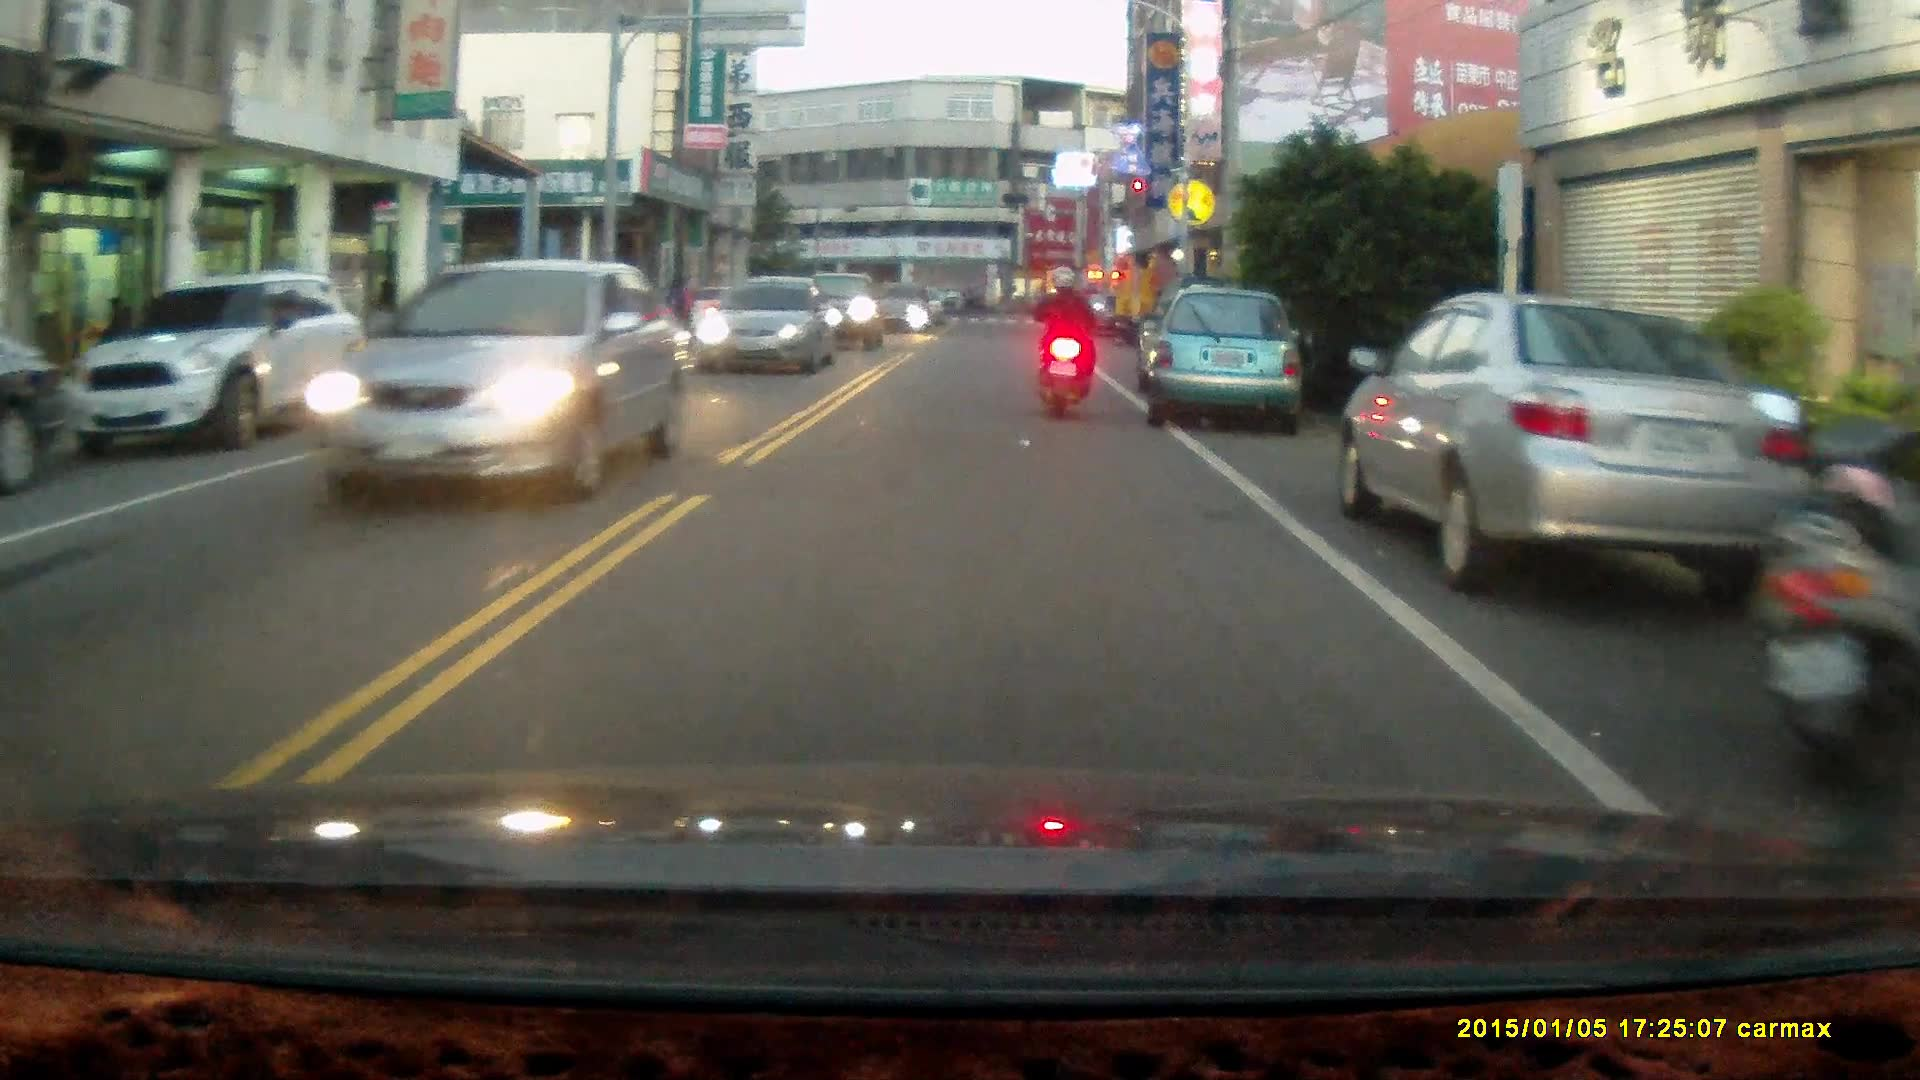pedestrian: (95, 292, 132, 364)
rider: (1032, 259, 1107, 419)
vehicle: (1335, 293, 1834, 592), (300, 258, 692, 496), (55, 268, 370, 465), (1145, 284, 1312, 437), (700, 279, 832, 382), (783, 263, 891, 358)
